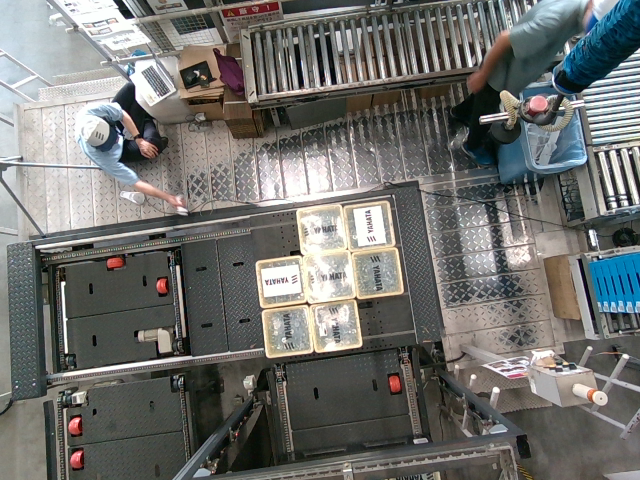box: (293, 207, 346, 251), (340, 201, 393, 245), (352, 252, 405, 296), (302, 254, 355, 298), (253, 259, 306, 303), (261, 310, 314, 354), (309, 303, 362, 347)
